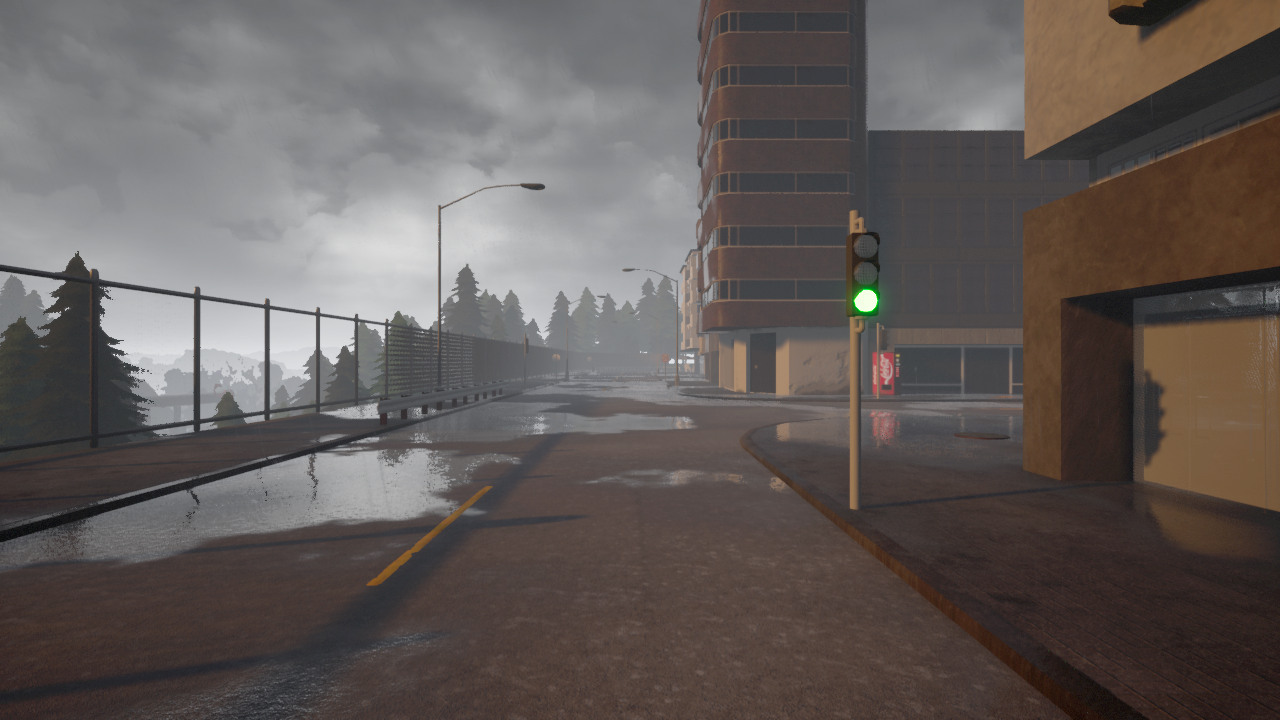green: (844, 231, 878, 317)
